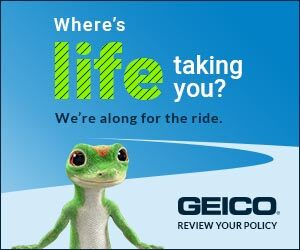Geico: (175, 196, 284, 219)
